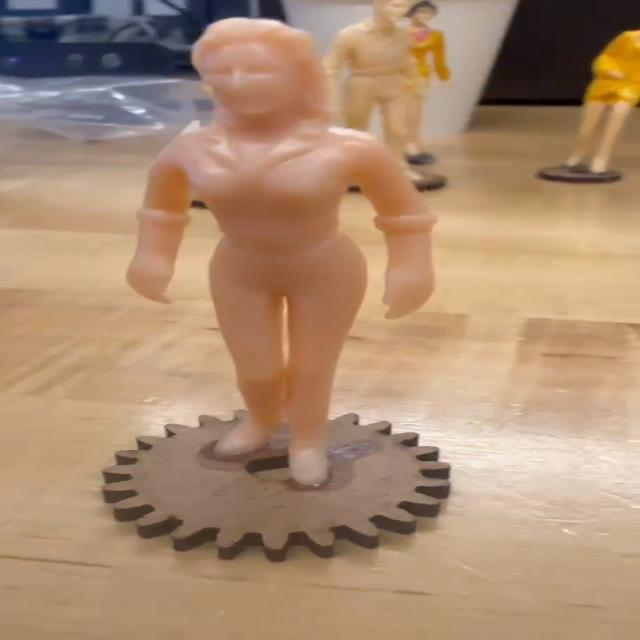Unauthorized: (130, 15, 436, 500)
